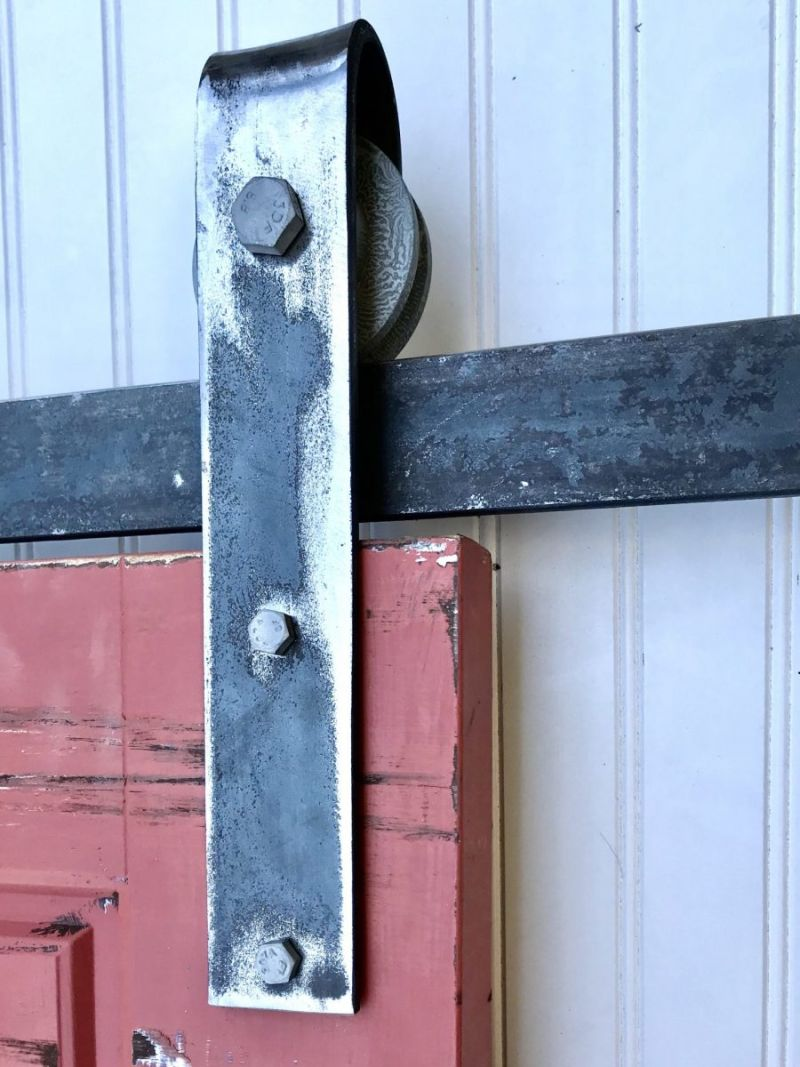bolt_a: (221, 168, 306, 261), (250, 936, 305, 987), (246, 607, 299, 656)
